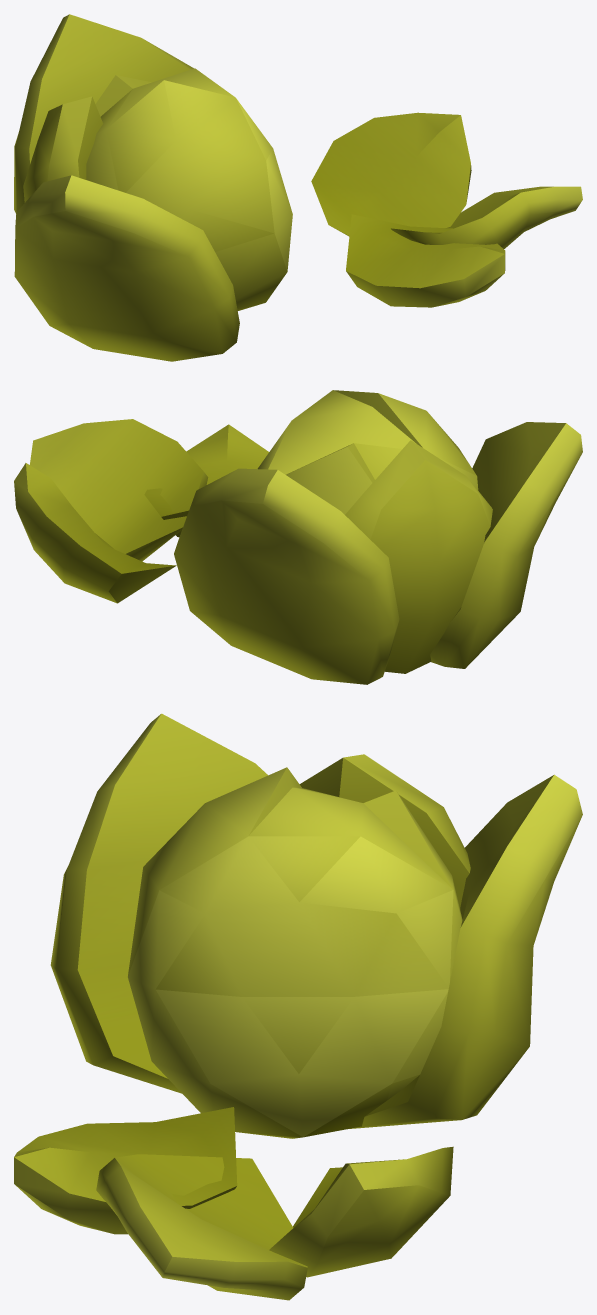
The model's file is food_ingredient_lettuce_chopped.obj.
3 renders of one model, top to bottom at view 1: azimuth 30°, elevation 25°; view 2: azimuth 150°, elevation 25°; view 3: azimuth 270°, elevation 25°, orthographic. The views are drawn at different scales.
Parts seen in each view (by area): view 1: food_ingredient_lettuce_chopped_Icosphere.003; view 2: food_ingredient_lettuce_chopped_Icosphere.003; view 3: food_ingredient_lettuce_chopped_Icosphere.003.
Boxes of the visible parts, x1,y1,x2,y2 form: food_ingredient_lettuce_chopped_Icosphere.003: (14, 14, 582, 361); food_ingredient_lettuce_chopped_Icosphere.003: (14, 390, 582, 684); food_ingredient_lettuce_chopped_Icosphere.003: (14, 713, 582, 1300).
Size of the model in its own units: 1.8 by 0.8088 by 1.21.
Materials: 1 (1 with a texture image).
